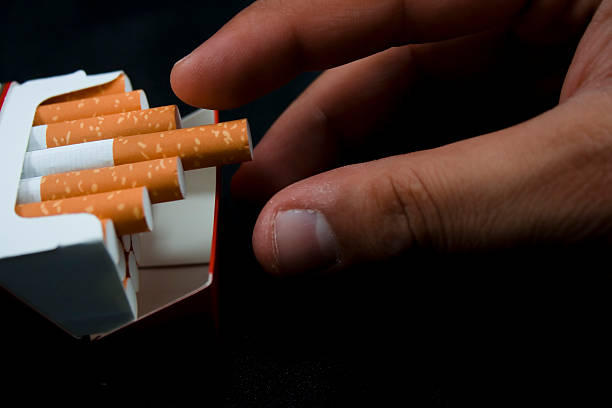cigarette: (0, 66, 255, 347), (21, 119, 258, 179), (16, 155, 187, 205), (14, 185, 155, 237), (27, 104, 182, 151), (32, 90, 149, 126), (35, 73, 135, 106), (101, 218, 120, 265)
